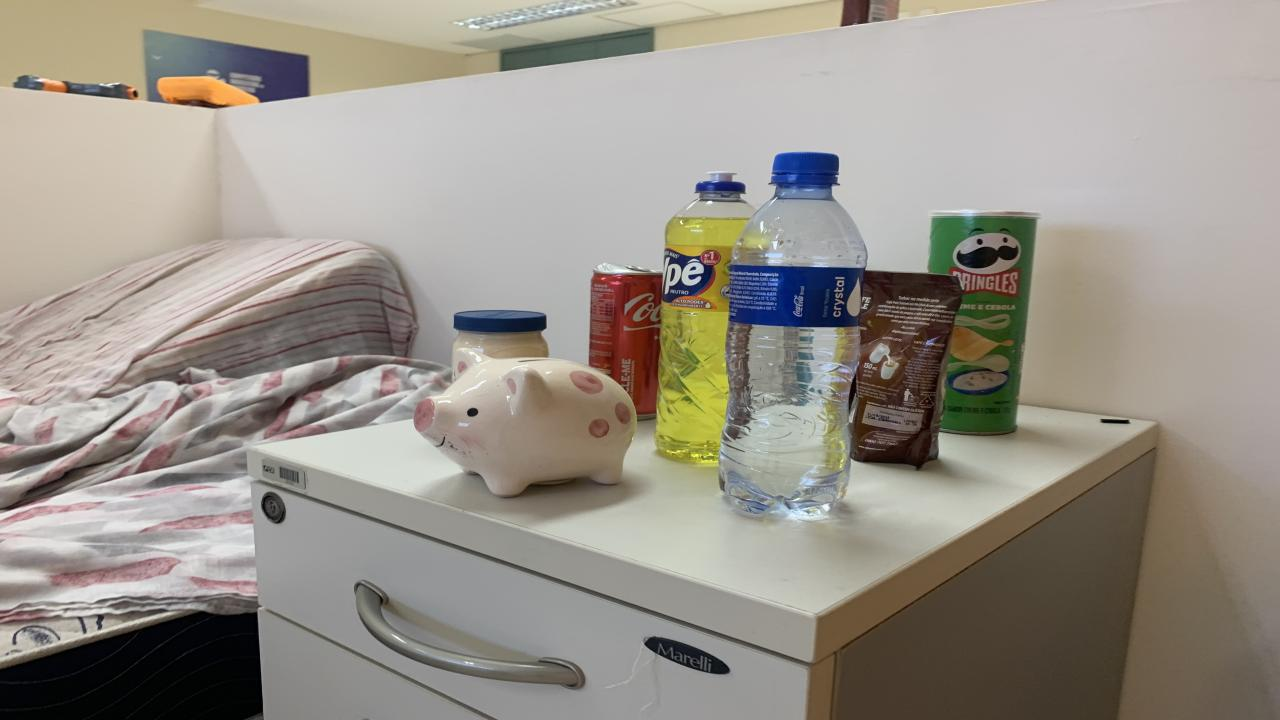Coffee-Pantry_Items: (850, 270, 962, 467)
Coke-Drinks: (590, 264, 662, 418)
Detergent-Cleanup_Items: (655, 172, 755, 463)
Mayonnaise-Pantry_Items: (452, 309, 550, 381)
Pig_Safe-Miscellaneous: (412, 349, 638, 497)
Pringles-Snacks: (928, 210, 1040, 435)
Water_Bottle-Drinks: (718, 154, 868, 518)
